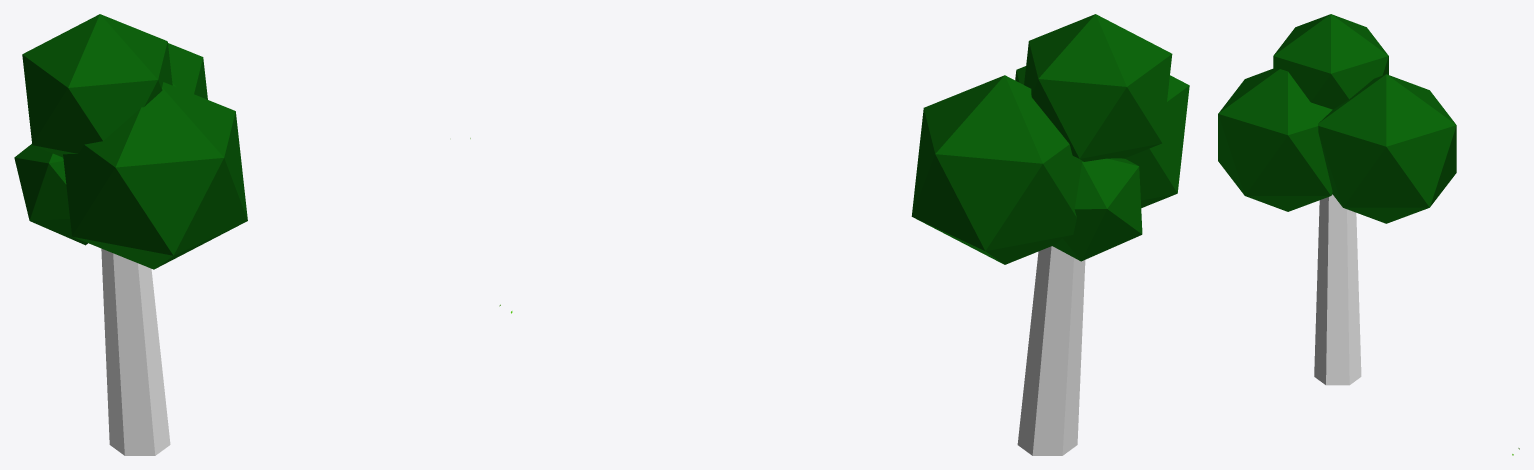
The model's file is Tree.fbx.
3 views of the same model, side by side, from view 1: azimuth 30°, elevation 25°; view 2: azimuth 150°, elevation 25°; view 3: azimuth 270°, elevation 25° (orthographic). The views are drawn at different scales.
Visible parts, largest first — view 1: Cylinder (×2); view 2: Cylinder (×2); view 3: Cylinder (×2).
Boxes of the visible parts, x1,y1,x2,y2 form: Cylinder (×2): (14, 14, 247, 455); Cylinder (×2): (911, 14, 1189, 455); Cylinder (×2): (1218, 14, 1456, 385).
Size of the model in its own units: 1183 by 905 by 715.
